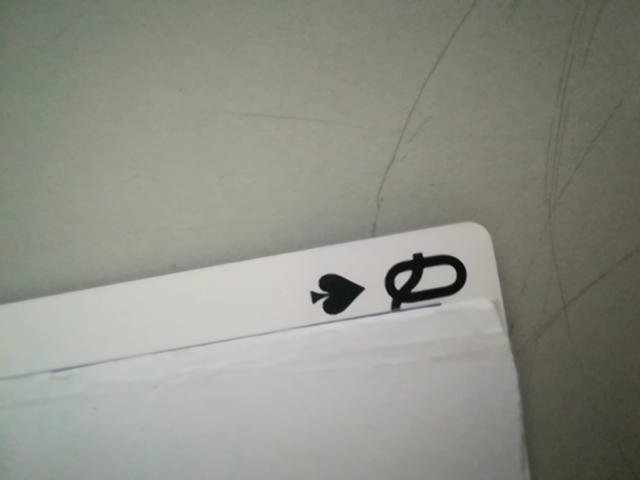ht q: (293, 240, 486, 327)
